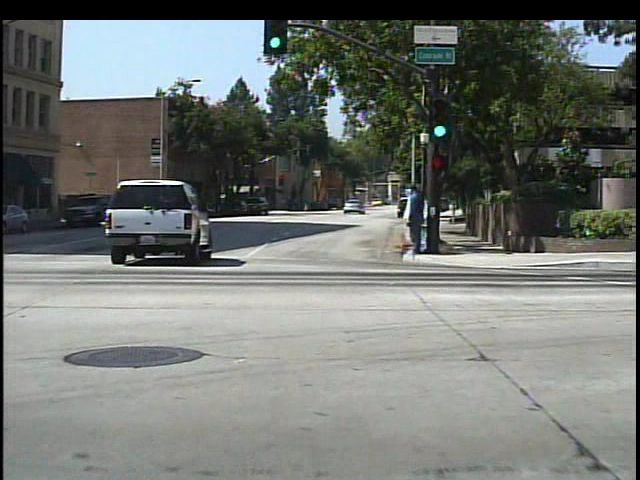person: (407, 183, 428, 256), (402, 188, 423, 257), (299, 197, 312, 212)
